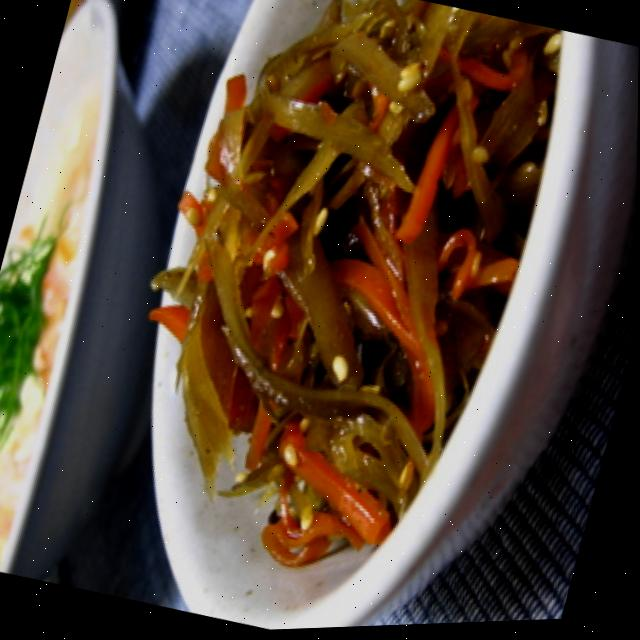蔬菜料理: (85, 0, 587, 626)
